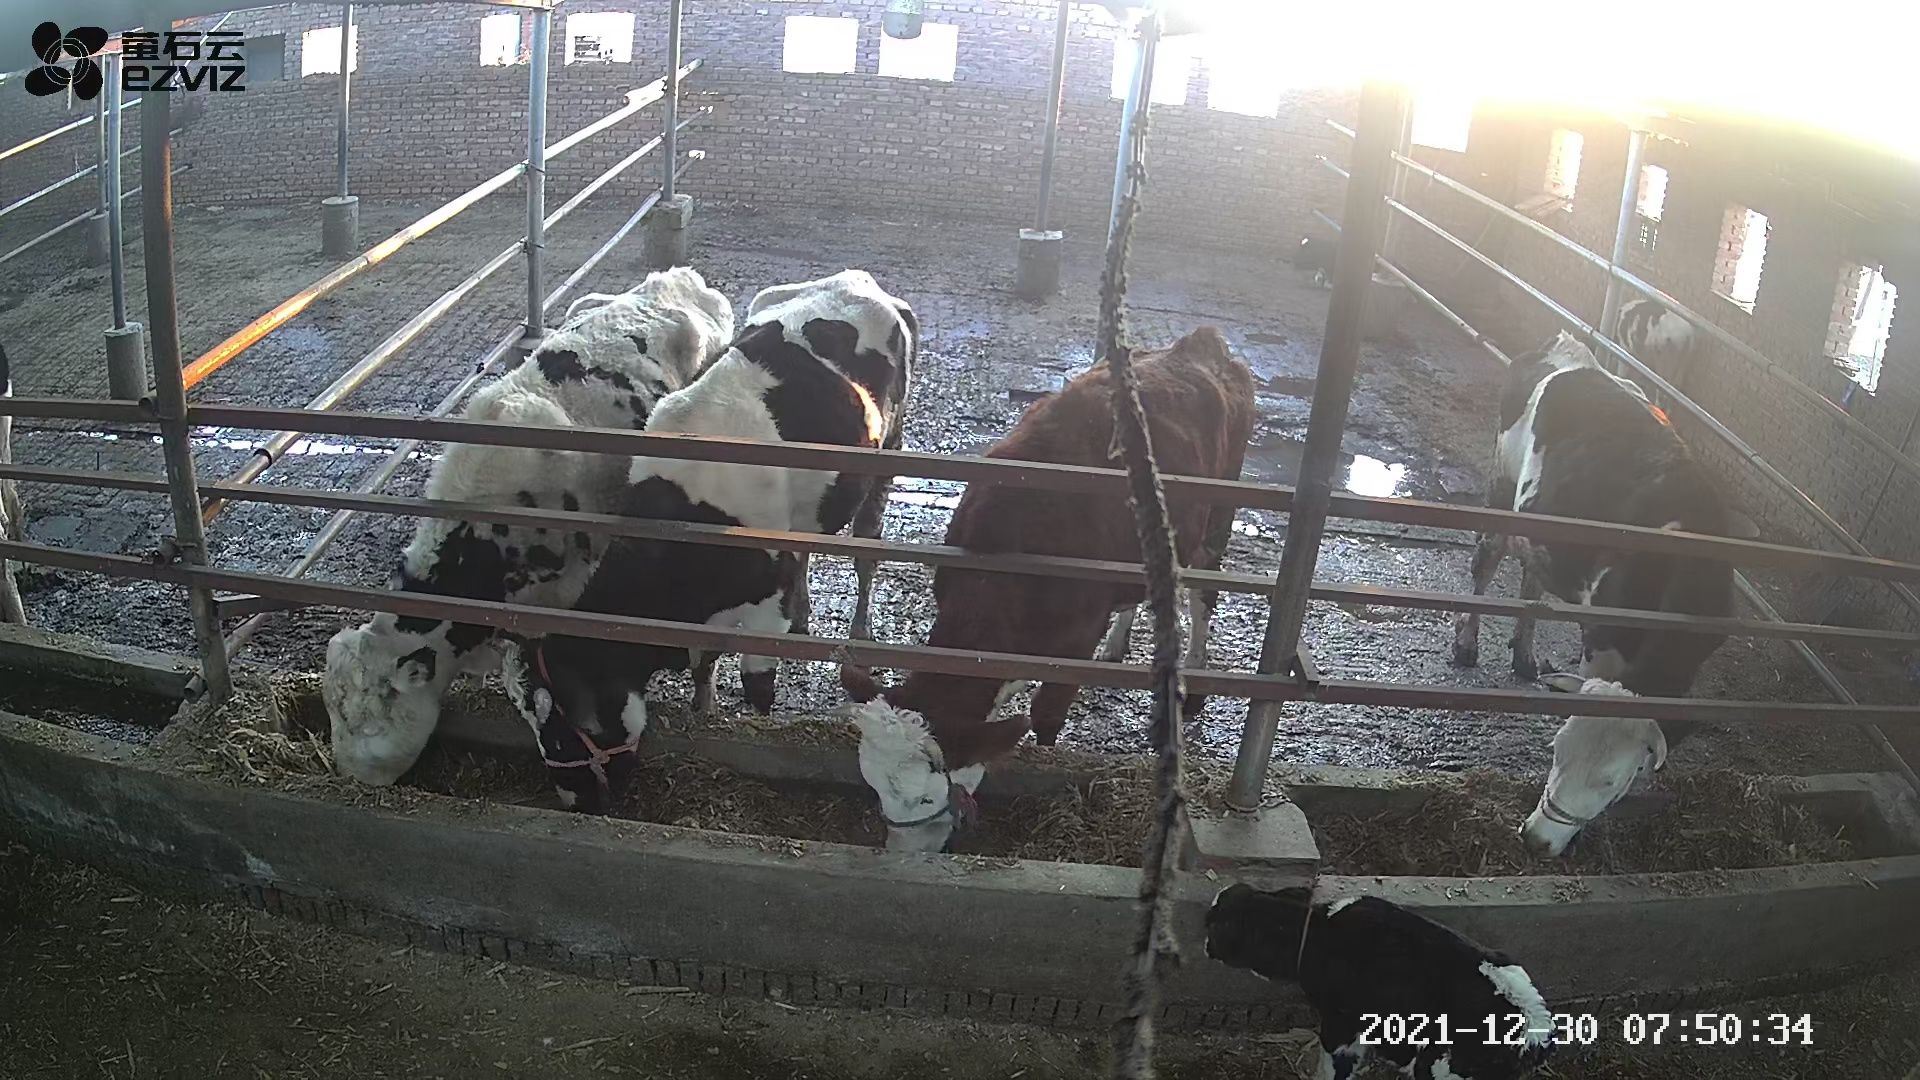cow: (502, 268, 918, 815), (837, 320, 1254, 853), (316, 266, 732, 789), (1451, 328, 1738, 862)
